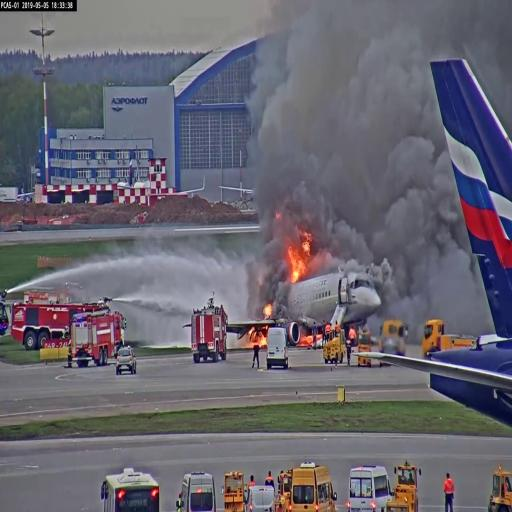fire: (290, 230, 311, 282)
smoke: (352, 27, 444, 281)
